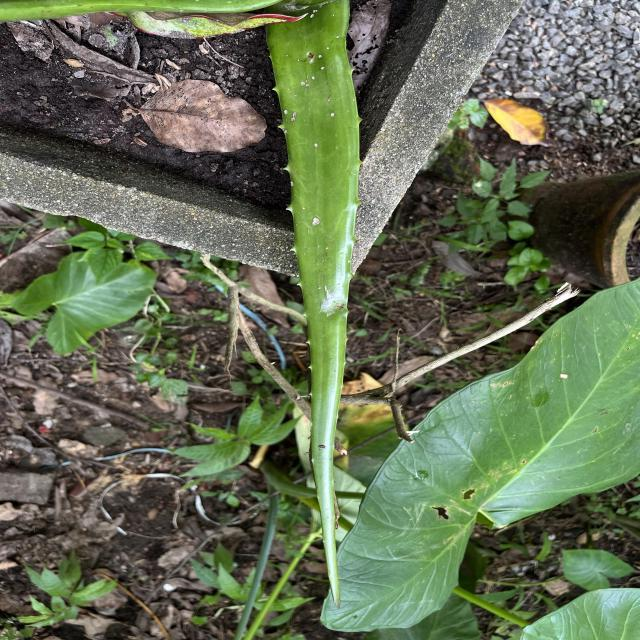Aloe vera: (258, 9, 366, 614)
